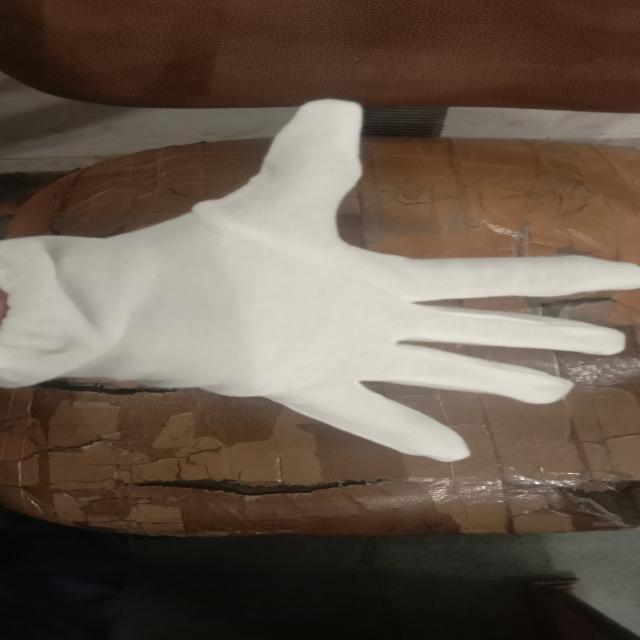glove_hand: (0, 91, 639, 464)
